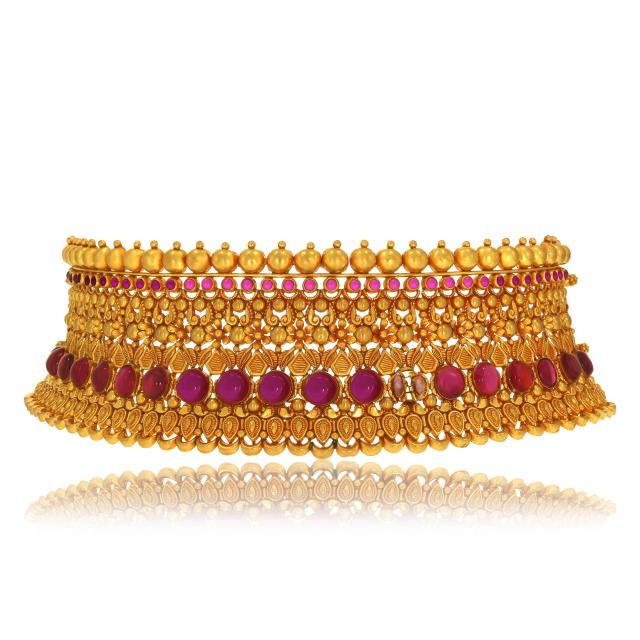missing gem: (392, 369, 425, 404)
